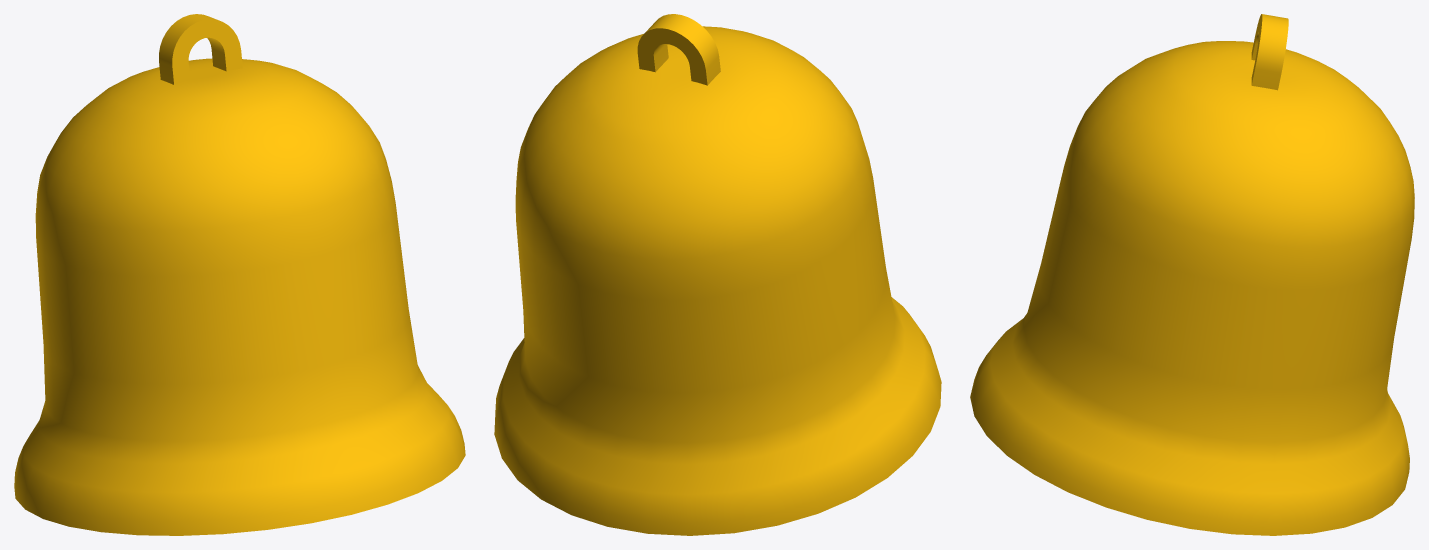
Rendered from bell.glb.
3 renders of one model, left to right at view 1: azimuth 30°, elevation 25°; view 2: azimuth 150°, elevation 25°; view 3: azimuth 270°, elevation 25°, orthographic.
Parts seen in each view (by area): view 1: Cylinder.491; view 2: Cylinder.491; view 3: Cylinder.491.
Part boxes in pixels (box(x1,y1,x2,y2)): Cylinder.491: box(14, 14, 465, 535); Cylinder.491: box(494, 14, 941, 535); Cylinder.491: box(970, 14, 1414, 535).
Bounding box in the file's own units: 1.99 × 2.23 × 1.98.
Materials: 1 (1 with a texture image).
